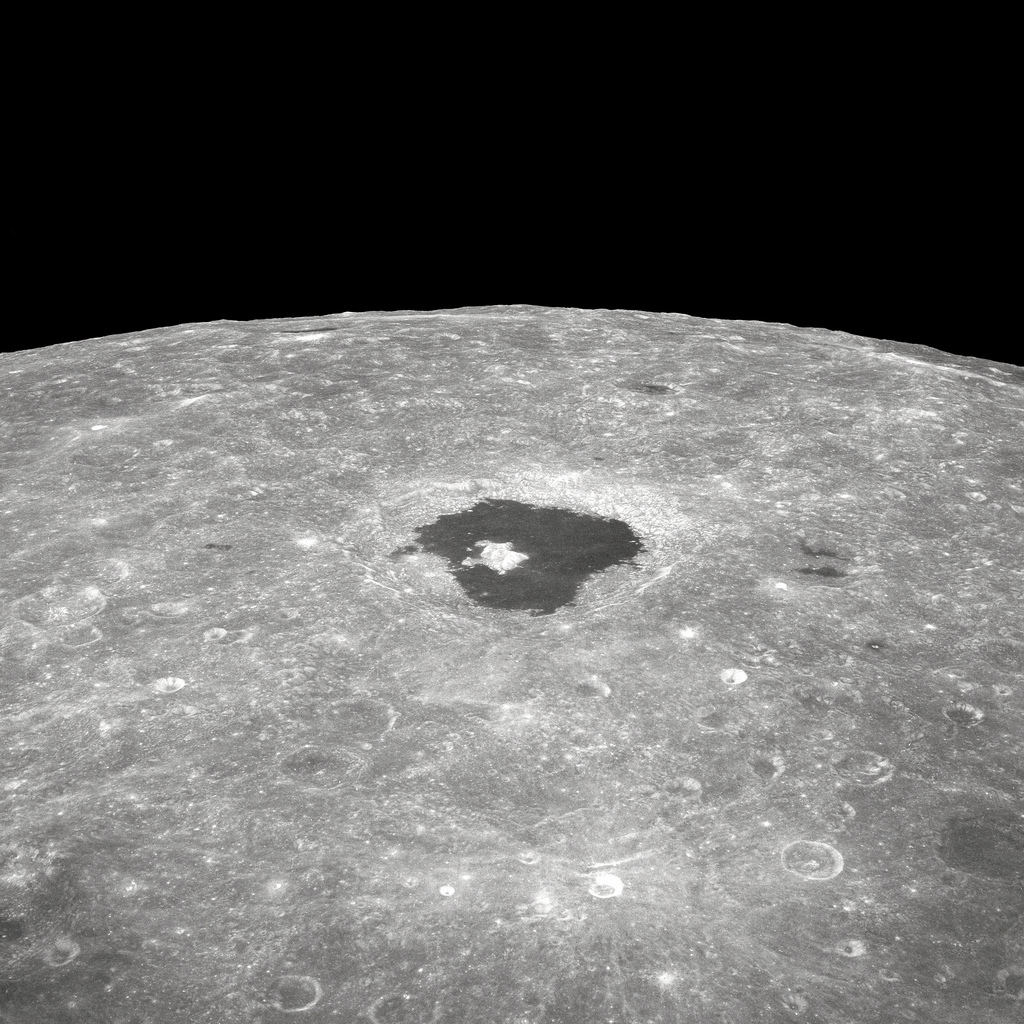crater: (299, 421, 753, 661), (251, 717, 404, 831), (222, 961, 349, 1016), (759, 832, 874, 885), (259, 497, 334, 577), (576, 853, 672, 912), (924, 684, 999, 747), (632, 946, 713, 1004), (143, 656, 202, 712), (711, 659, 766, 695), (691, 355, 734, 386)
